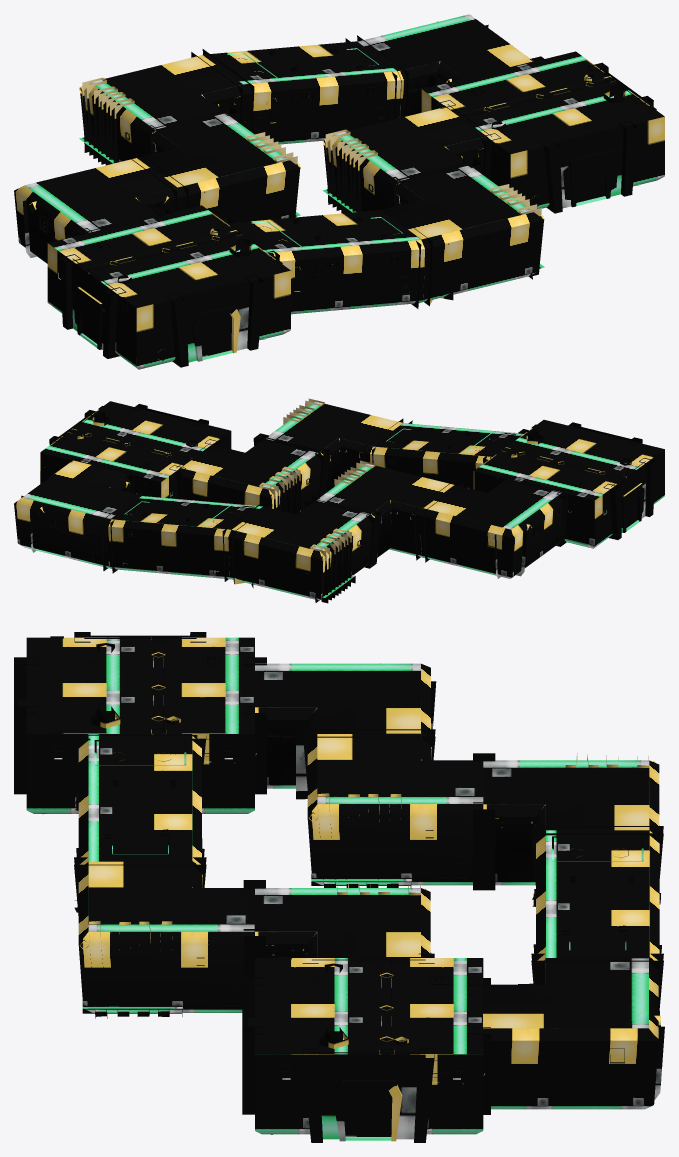
The model's file is Combined_Mesh_root_scene__0_a34a996a__zombies2_diffuse_12_078cf75e_c1f257.obj.
3 views of the same model, one above another, from view 1: azimuth 30°, elevation 25°; view 2: azimuth 150°, elevation 25°; view 3: azimuth 270°, elevation 25° (orthographic). The views are drawn at different scales.
Size of the model in its own units: 81.89 by 12.64 by 57.04.
170 materials, 170 textured.
